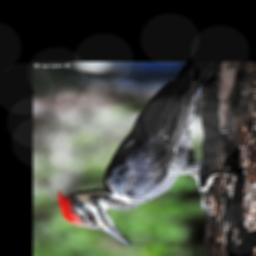Woodpecker: (56, 62, 219, 247)
